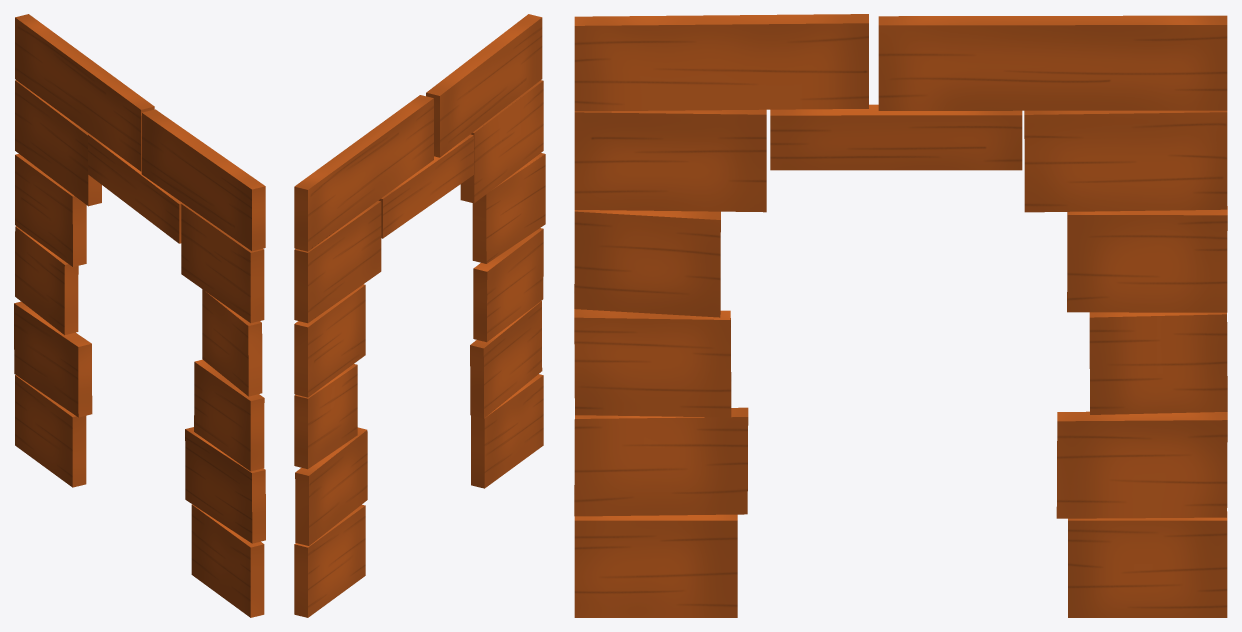
Rendered from PAREDE PORTA.fbx.
3 views of the same model, side by side, from view 1: azimuth 30°, elevation 25°; view 2: azimuth 150°, elevation 25°; view 3: azimuth 270°, elevation 25° (orthographic). The views are drawn at different scales.
Parts seen in each view (by area): view 1: PAREDE_PORTA; view 2: PAREDE_PORTA; view 3: PAREDE_PORTA.
Part boxes in pixels (x1,y1,x2,y2): PAREDE_PORTA: (14, 14, 265, 617); PAREDE_PORTA: (294, 14, 545, 617); PAREDE_PORTA: (574, 14, 1227, 617).
Bounding box in the file's own units: 10.44 × 200 × 200.
Materials: 1 (1 with a texture image).
